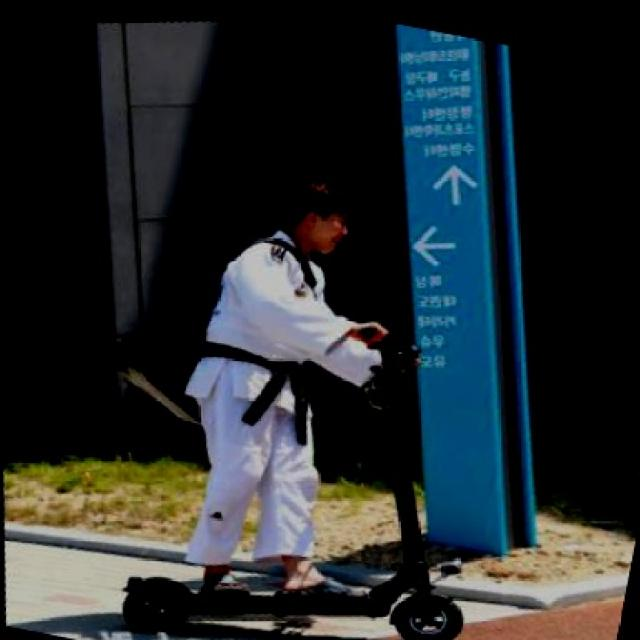bare_head: (281, 160, 369, 255)
human: (199, 122, 349, 591)
kickboard: (113, 551, 482, 637)
